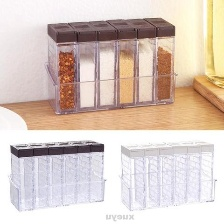plastic_box: (39, 10, 181, 121), (114, 135, 222, 214), (5, 134, 110, 214)
